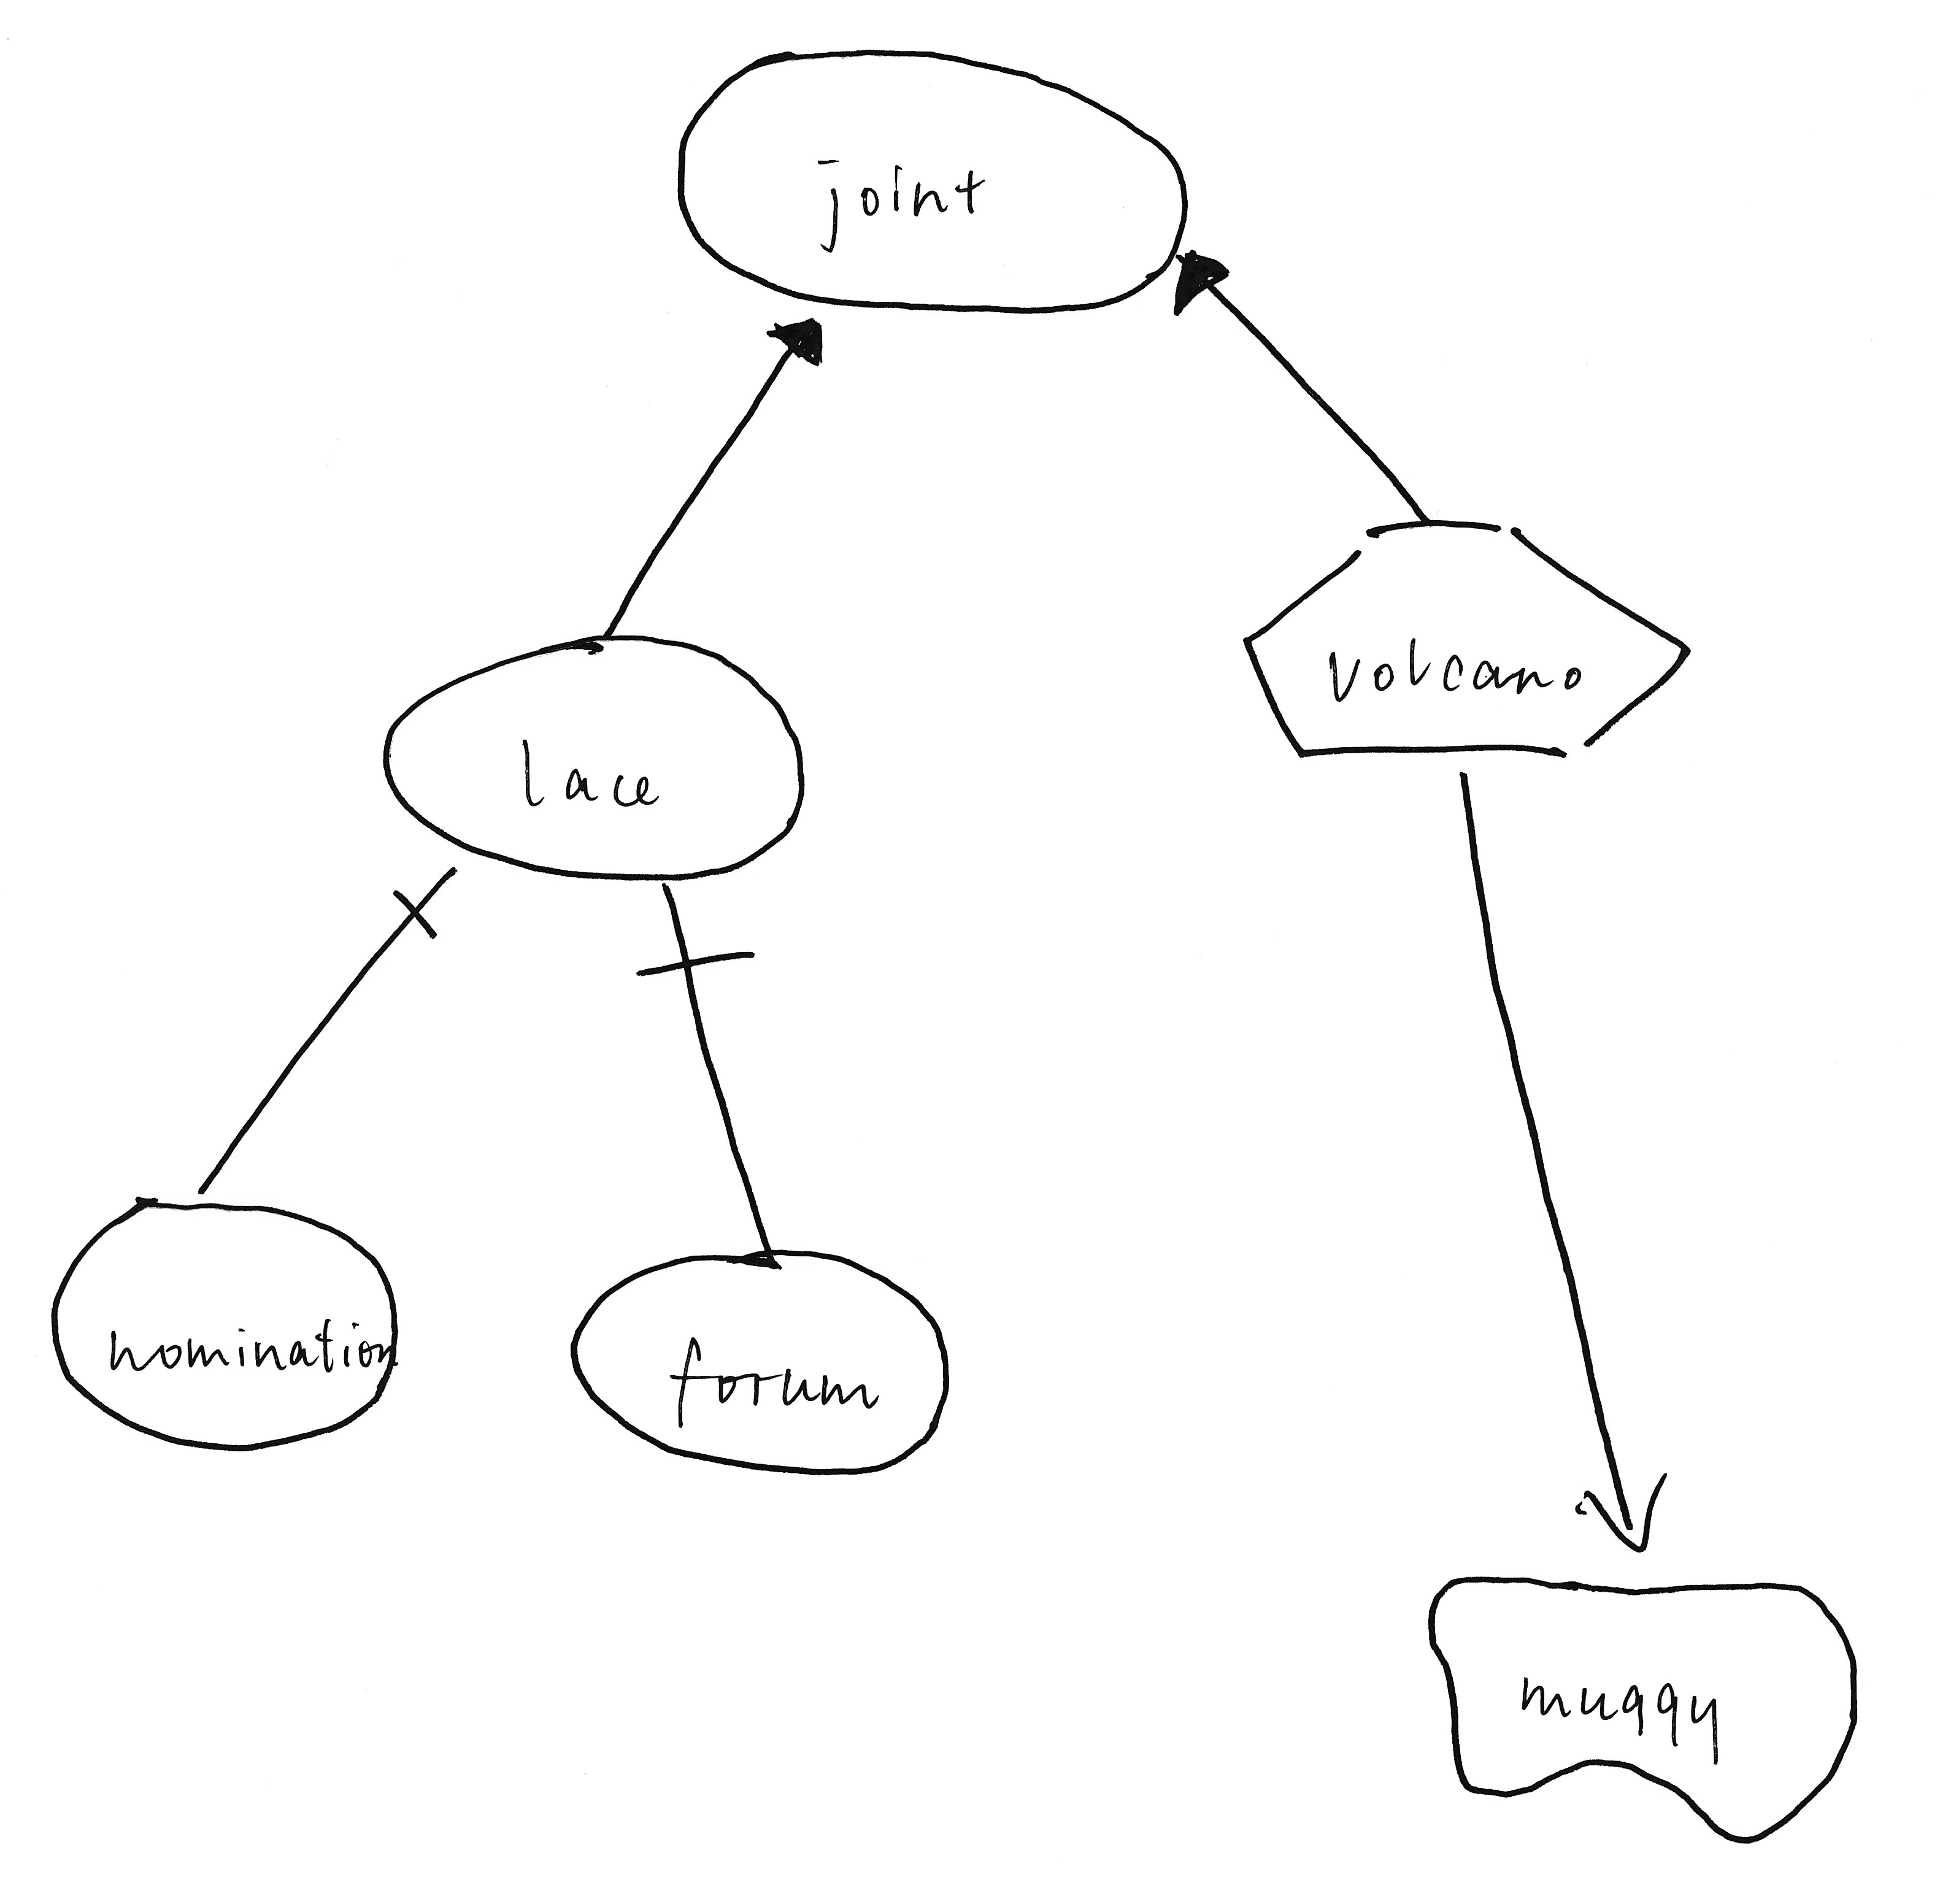and: (616, 896, 769, 1023), (375, 860, 471, 969)
arrow: (1560, 1470, 1687, 1567)
goal: (659, 21, 1200, 324), (365, 614, 816, 894), (553, 1231, 972, 1494), (33, 1179, 417, 1465)
or: (745, 295, 843, 396), (1158, 241, 1240, 342)
quality: (1415, 1552, 1877, 1859)
task: (1223, 497, 1710, 783)
